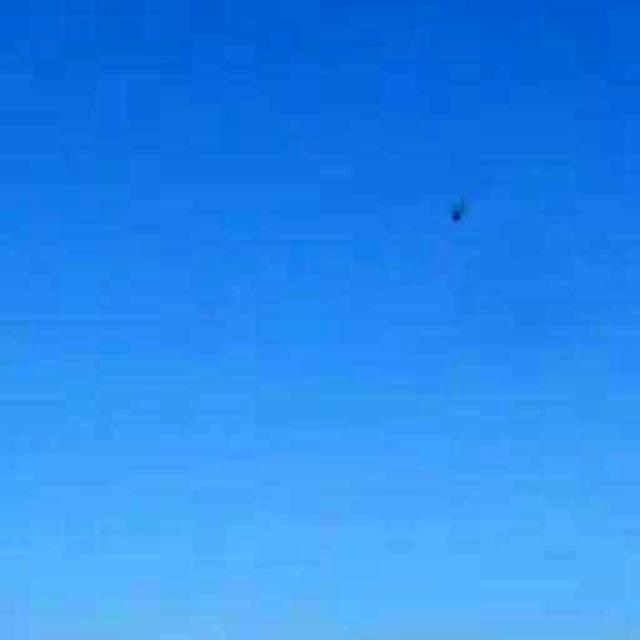drone: (425, 174, 479, 248)
